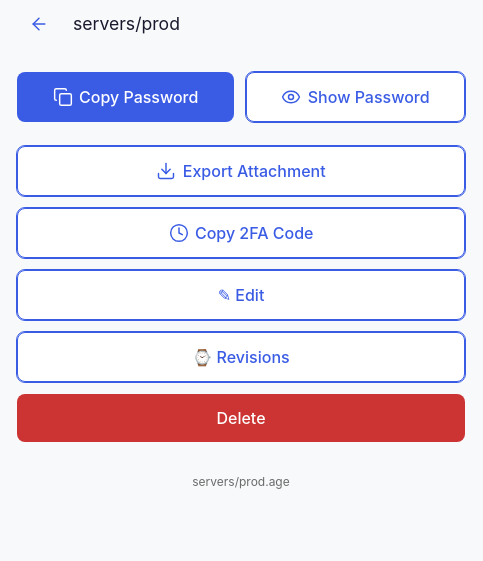
EntryDetailPage › copyPassword › clears sensitive data immediately after copy
Click the button with aria-label "Show password". click: (356, 97)
box: [246,72,465,122]
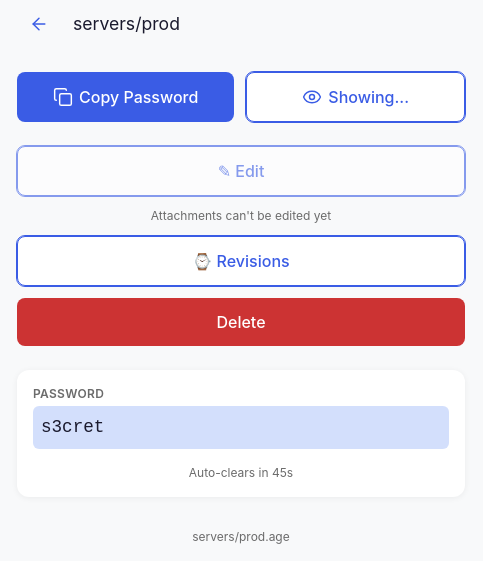
Result: the text "s3cret" is shown at [33,406,449,449]
Note: Now copy — this should clear sensitive data
Click the button with aria-label "Copy password to clipboard". click: (126, 97)
box: [17,72,234,122]
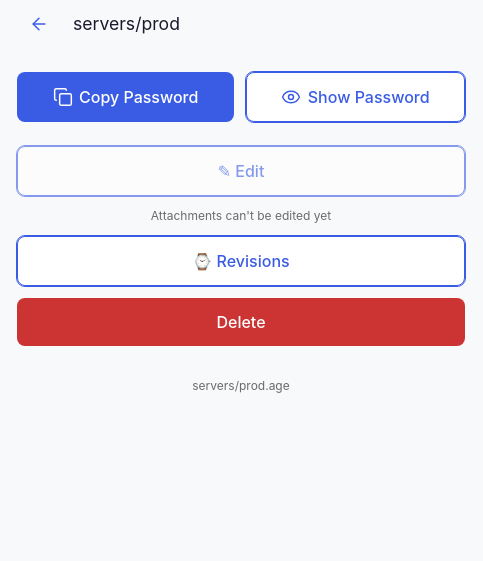
Result: the text "s3cret" is gone
